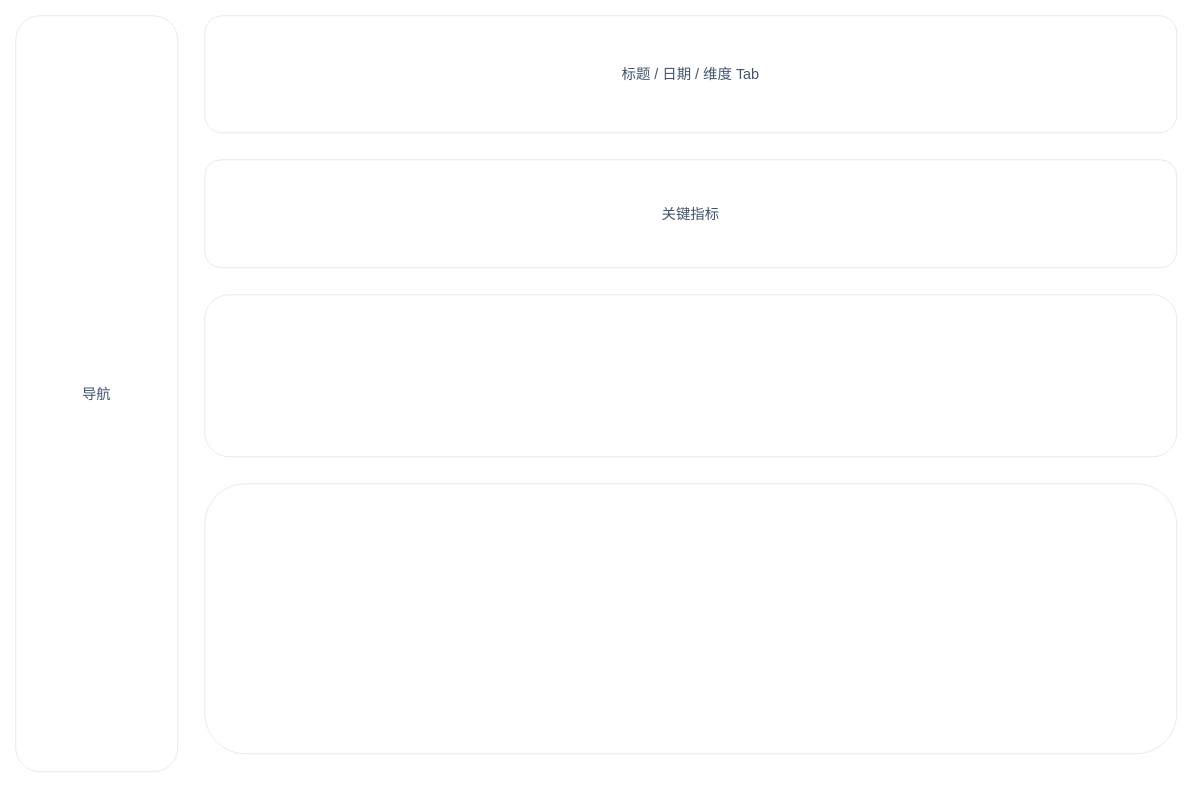
This 1193x788 diagram has some shape labels left out. The shapes that lost their labels are listed below. From the top down, each one's centre as x and y in pixels, then its label:
[690,375]: 主指标 / 计量覆盖
[690,618]: 趋势 / 模型排行
